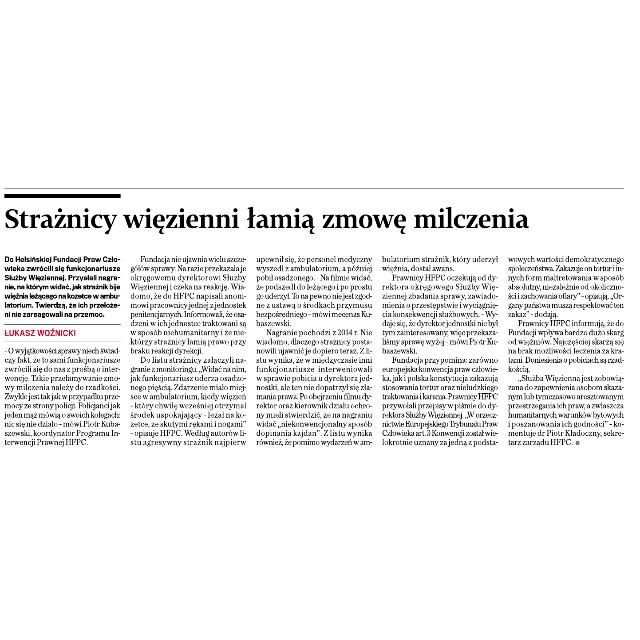author: (3, 326, 81, 338)
body: (378, 252, 502, 448), (128, 252, 250, 448), (254, 252, 374, 448), (506, 252, 626, 448), (1, 344, 124, 448)
lead: (4, 252, 124, 320)
title: (3, 201, 534, 237)
